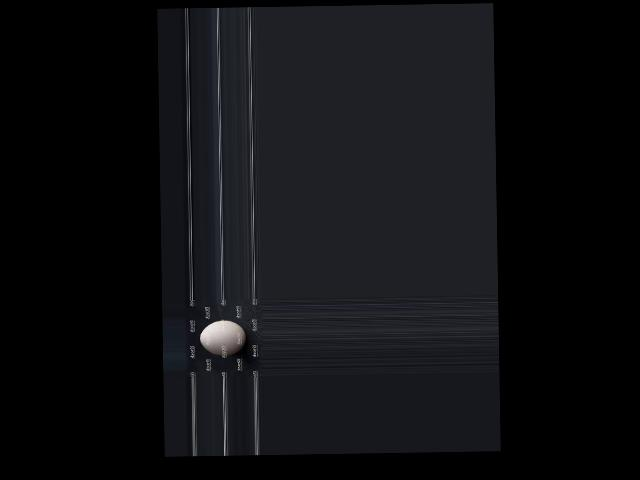egg: (199, 320, 246, 356)
